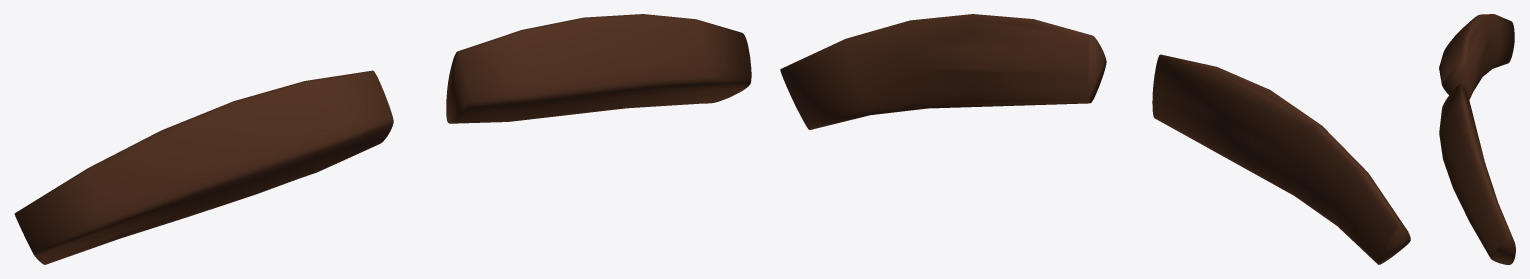
3 views of the same model, side by side, from view 1: azimuth 30°, elevation 25°; view 2: azimuth 150°, elevation 25°; view 3: azimuth 270°, elevation 25° (orthographic). The views are drawn at different scales.
Visible parts, largest first — view 1: beardMustachePencil; view 2: beardMustachePencil; view 3: beardMustachePencil.
Part boxes in pixels (box(x1,y1,x2,y2)): beardMustachePencil: box(14, 14, 751, 264); beardMustachePencil: box(780, 14, 1410, 264); beardMustachePencil: box(1439, 14, 1515, 264).
Size of the model in its own units: 0.2013 by 0.0411 by 0.0299.
Materials: 1 (1 with a texture image).
